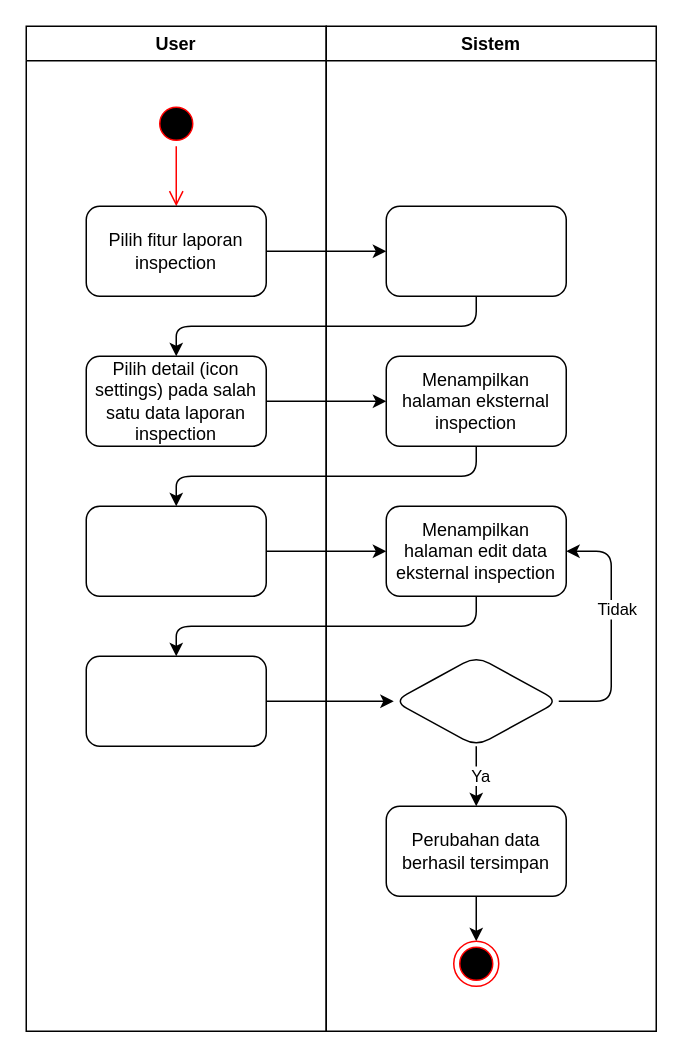
Some shapes in this 683 by 1058 pixel diagram are drawn without their labels. Each missing label, with the centre of its shape:
"Edit data eksternal inspection" goes at [175,700].
"Menampilkan halaman laporan inspection" goes at [475,250].
"Pilih edit (icon pen) pada salah satu data eksternal inspection" goes at [175,550].
"Validasi data" goes at [475,700].
